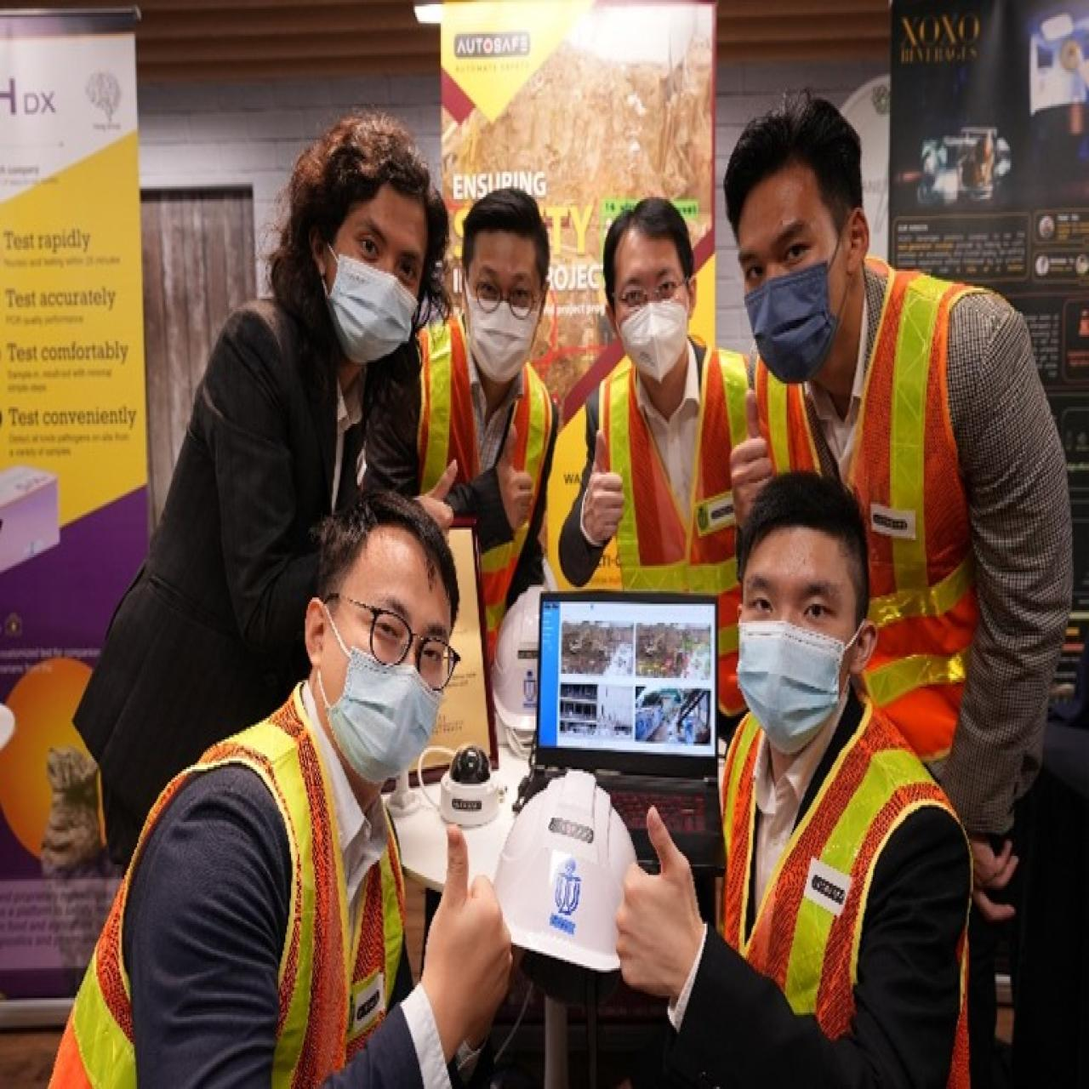NO_Safety_Vest: (107, 346, 373, 669)
Person: (3, 479, 514, 1086), (720, 110, 1076, 974), (88, 120, 459, 804), (590, 454, 985, 1089), (548, 149, 772, 570), (413, 140, 564, 657)
Safety_Vest: (34, 691, 413, 1089), (774, 265, 975, 717), (732, 700, 948, 1089), (562, 348, 762, 563), (404, 327, 564, 571)
